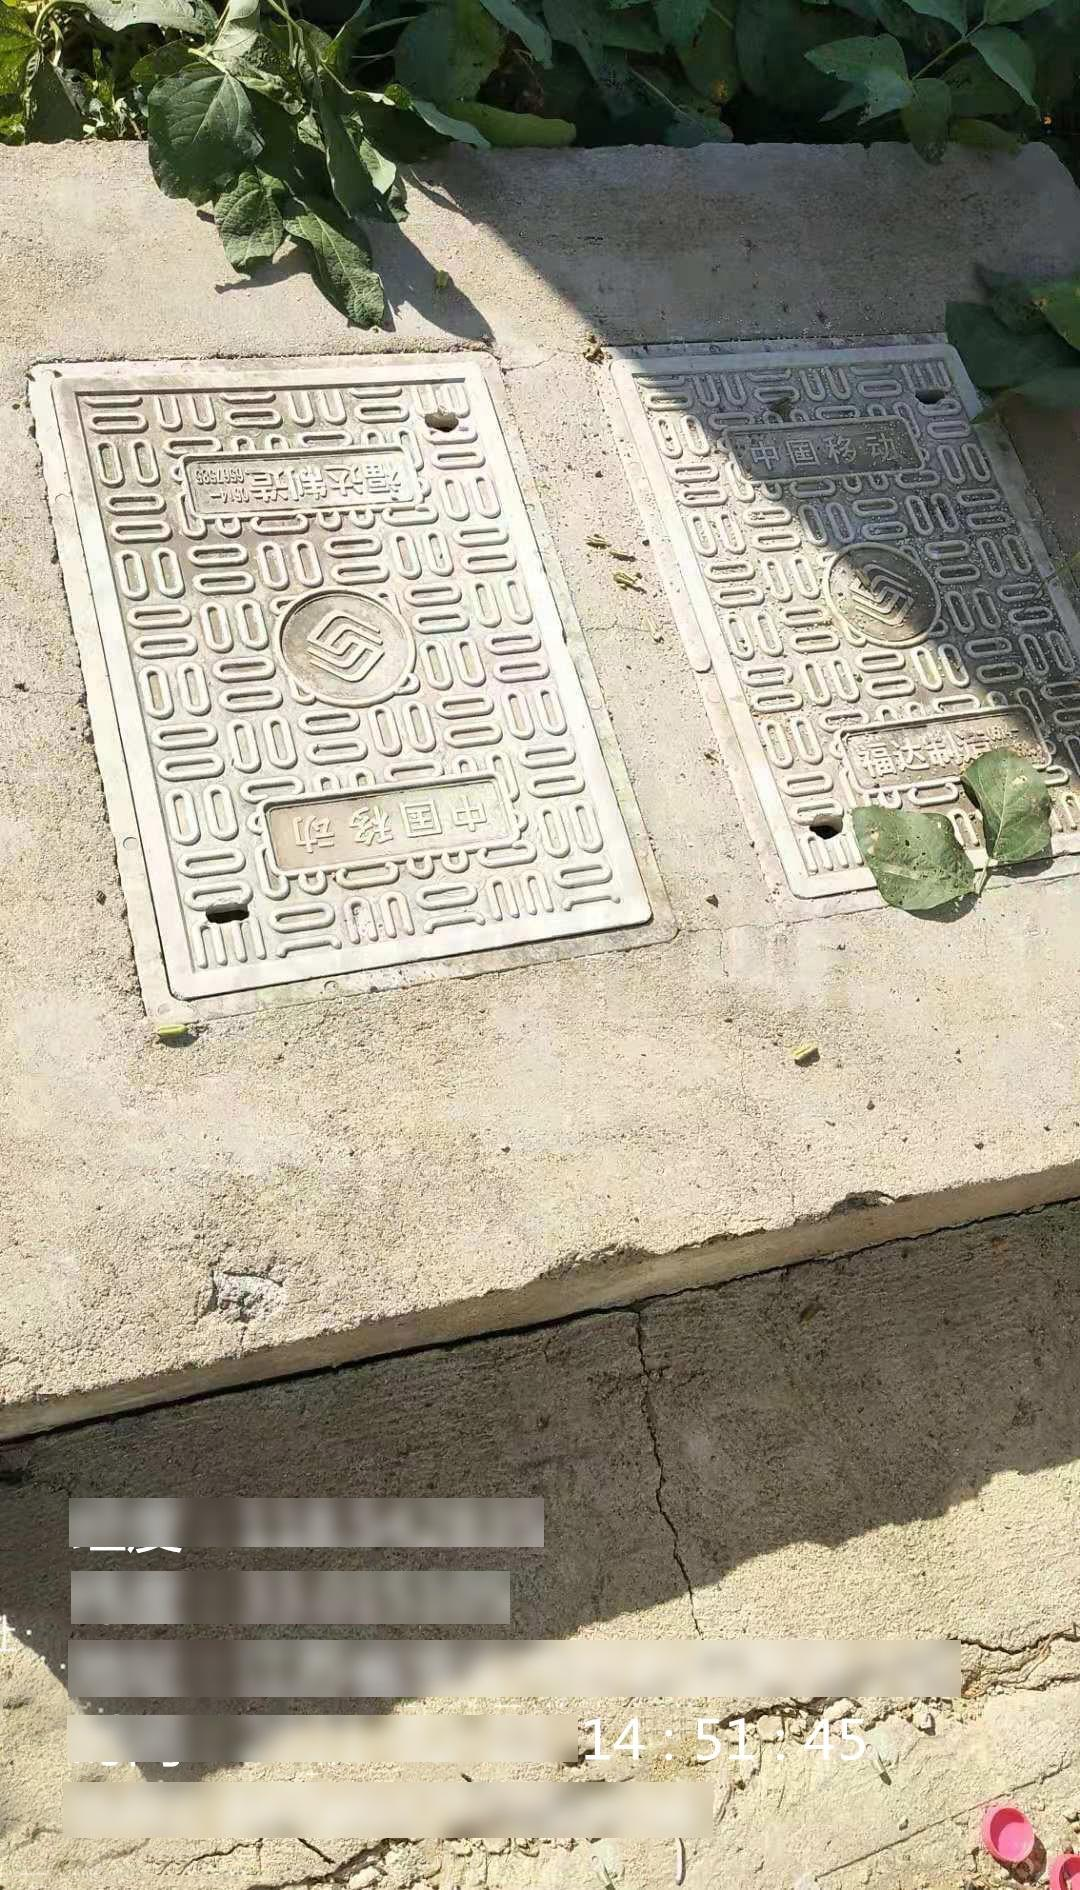wellcover: (27, 337, 662, 1061), (574, 297, 1080, 939)
